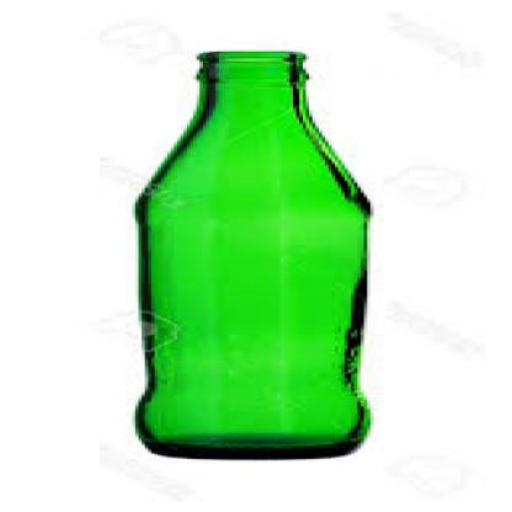glass: (138, 52, 374, 459)
